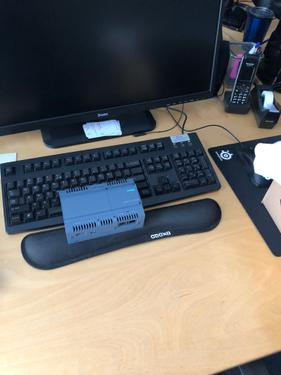device: (59, 179, 146, 245)
